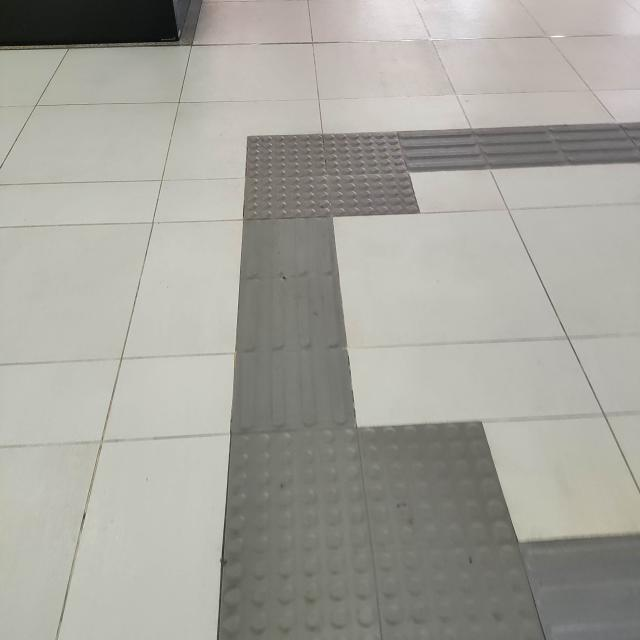kanan: (194, 104, 546, 246)
